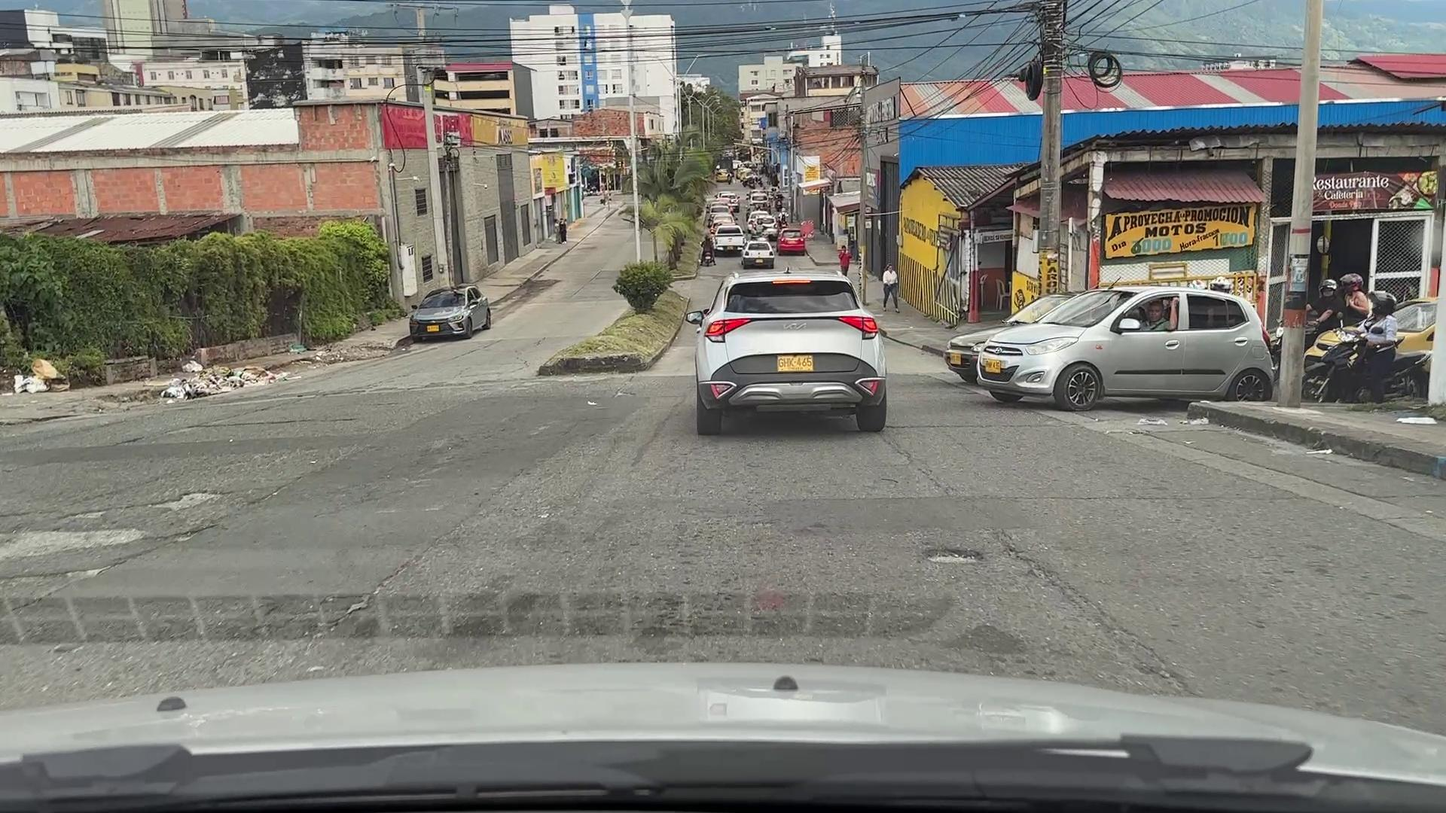bache: (0, 528, 144, 561), (158, 492, 221, 510), (61, 560, 125, 577), (926, 549, 983, 564), (163, 530, 204, 542), (71, 508, 108, 518)
grieta: (997, 530, 1190, 694)
